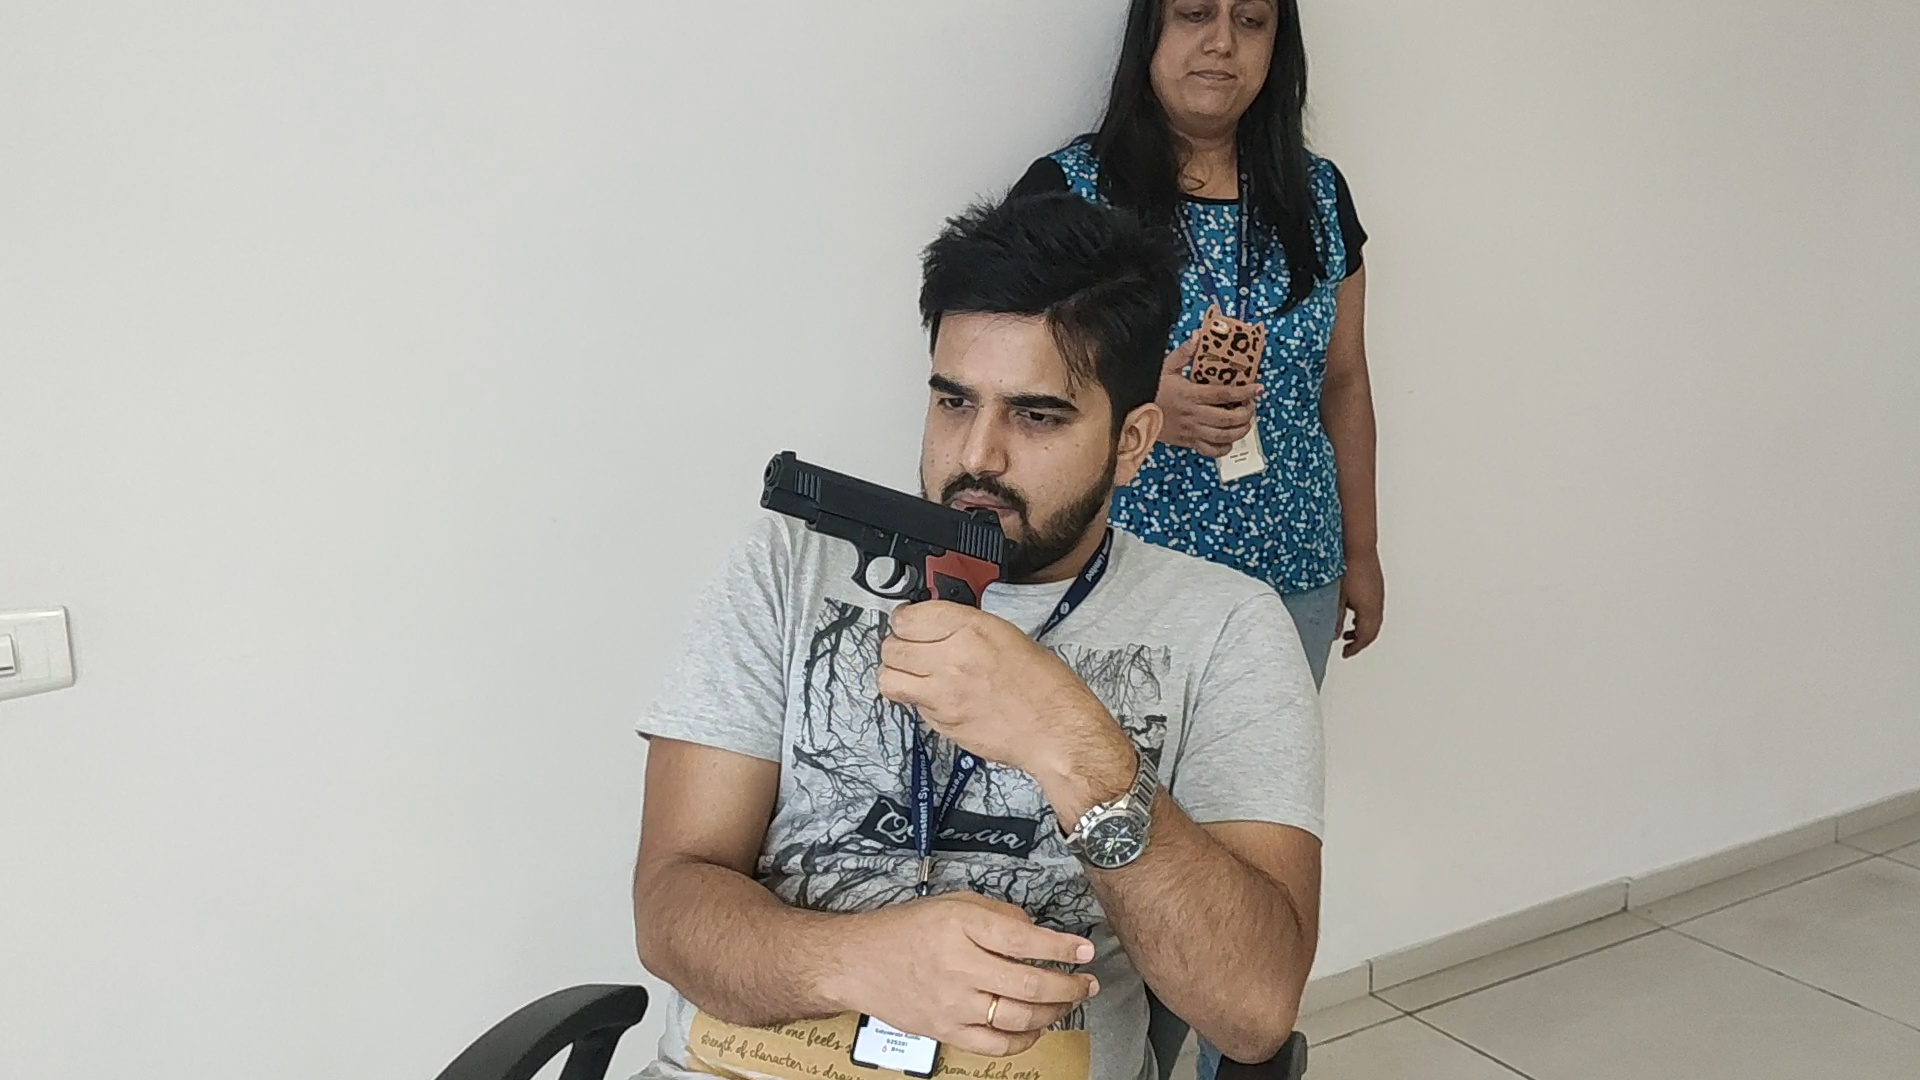gun: (761, 455, 957, 601)
